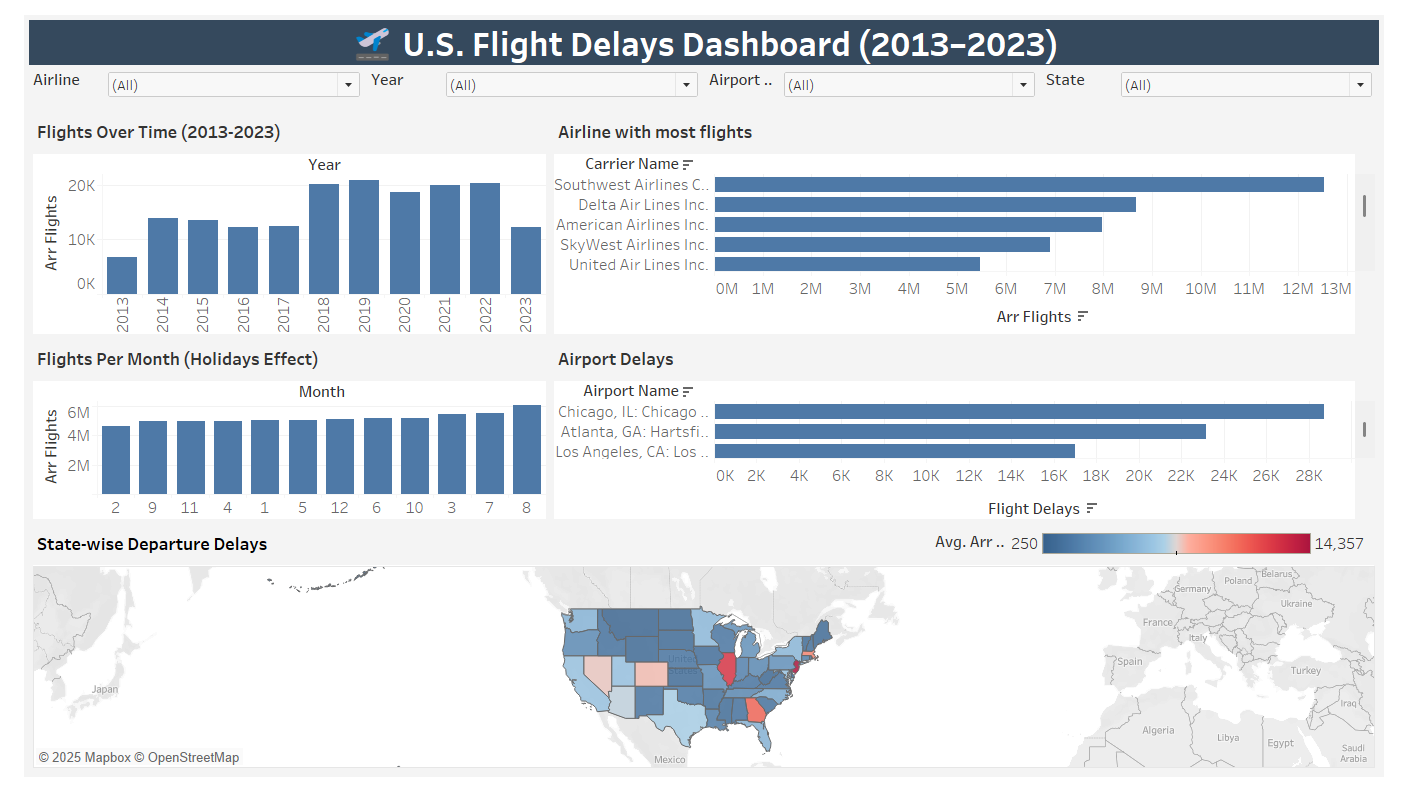

The dashboard page shown, as its layout file describes it:
{"tool":"tableau","page":{"name":"U.S. Flight Delays Dashboard (2013 - 2023)","canvas":[1366,768],"ordinal":0},"visuals":[{"type":"text","box":[8,8,1350,45]},{"type":"filter","title":"State-wise Departure Delay","param":"[federated.10duc4x0mz5wi61beglbd1n7fta3].[none:carrier_name:nk]","box":[8,53,338,39]},{"type":"filter","title":"Airport Delays","param":"[federated.10duc4x0mz5wi61beglbd1n7fta3].[none:year:ok]","box":[346,53,338,39]},{"type":"filter","title":"Airport Delays","param":"[federated.10duc4x0mz5wi61beglbd1n7fta3].[none:airport_name:nk]","box":[684,53,337,39]},{"type":"filter","title":"Flights Over Time","param":"[federated.10duc4x0mz5wi61beglbd1n7fta3].[none:Calculation_1185572665339265024:n","box":[1021,53,337,39]},{"type":"worksheet","title":"Flights Over Time","mark":"Automatic","rows":["arr_flights"],"cols":["year"],"box":[8,92,521,215]},{"type":"worksheet","title":"Airline Flights","mark":"Automatic","rows":["carrier_name"],"cols":["arr_flights"],"box":[529,92,829,215]},{"type":"worksheet","title":"Flights Per Month","mark":"Automatic","rows":["arr_flights"],"cols":["month"],"box":[8,307,521,204.5]},{"type":"worksheet","title":"Airport Delays","mark":"Automatic","rows":["airport_name"],"cols":["arr_delay"],"box":[529,307,829,204.5]},{"type":"worksheet","title":"State-wise Departure Delay","mark":"Automatic","box":[8,511.5,1350,248.5]},{"type":"legend","title":"State-wise Departure Delay","param":"[federated.10duc4x0mz5wi61beglbd1n7fta3].[avg:arr_delay:qk]","box":[913.9,517.4,434.4,35.5]}]}

Visuals, with their boxes in screenshot pixels (x1, y1, x2, y2), scaled from the page's 1366x768 canvas onto the 1404x811 screenshot:
text: (8,8,1396,56)
"State-wise Departure Delay" filter: (8,56,356,97)
"Airport Delays" filter: (356,56,703,97)
"Airport Delays" filter: (703,56,1049,97)
"Flights Over Time" filter: (1049,56,1396,97)
"Flights Over Time" worksheet: (8,97,544,324)
"Airline Flights" worksheet: (544,97,1396,324)
"Flights Per Month" worksheet: (8,324,544,540)
"Airport Delays" worksheet: (544,324,1396,540)
"State-wise Departure Delay" worksheet: (8,540,1396,803)
"State-wise Departure Delay" legend: (939,546,1386,584)
